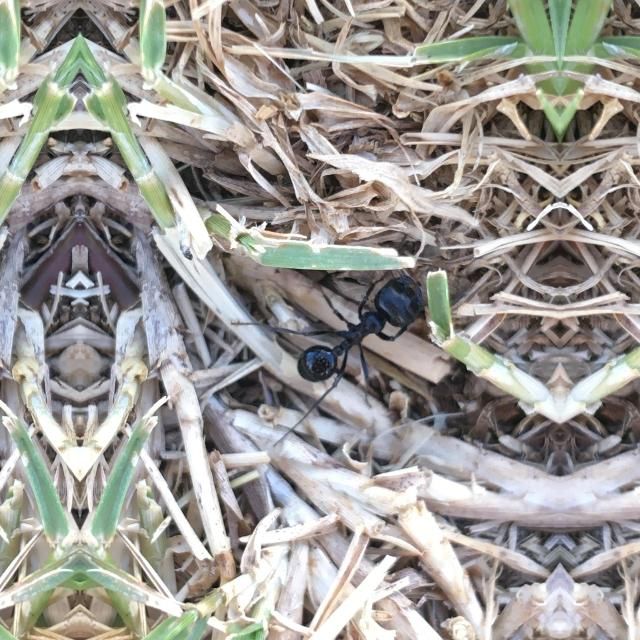Messor: (283, 244, 445, 418)
